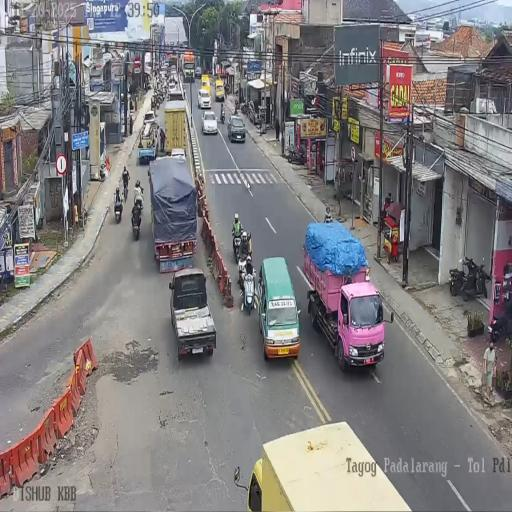car: (169, 269, 217, 362), (260, 257, 301, 359), (226, 114, 246, 142), (202, 110, 218, 134), (197, 88, 212, 110), (142, 110, 156, 132), (170, 146, 186, 162), (215, 79, 225, 102), (160, 62, 169, 75), (169, 65, 177, 79), (195, 65, 201, 78)
motorcycle: (449, 255, 489, 301), (488, 304, 510, 341), (285, 143, 306, 165), (131, 203, 142, 240), (232, 231, 242, 263), (237, 257, 246, 292), (114, 197, 122, 224), (240, 99, 250, 115), (220, 106, 225, 124), (233, 98, 238, 114), (151, 96, 155, 112), (155, 97, 159, 110)
truck: (299, 224, 379, 372), (148, 156, 198, 272), (168, 74, 184, 102), (182, 50, 195, 82)
